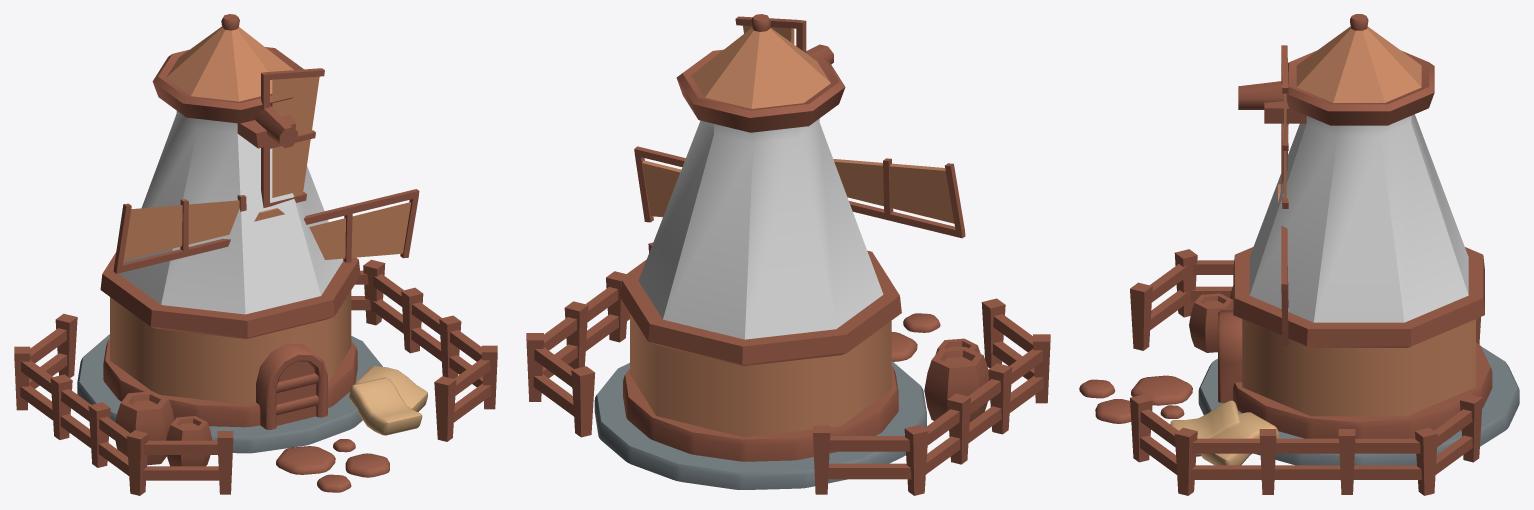
The model's file is mill.gltf.glb.
3 renders of one model, left to right at view 1: azimuth 30°, elevation 25°; view 2: azimuth 150°, elevation 25°; view 3: azimuth 270°, elevation 25°, orthographic. The views are drawn at different scales.
Parts seen in each view (by area): view 1: mill, mill_blades; view 2: mill, mill_blades; view 3: mill, mill_blades.
Part boxes in pixels (x1,y1,x2,y2): mill: [14, 14, 497, 495]; mill_blades: [113, 68, 419, 273]; mill: [526, 14, 1050, 495]; mill_blades: [634, 16, 965, 238]; mill: [1079, 14, 1519, 495]; mill_blades: [1278, 45, 1288, 346].
Bounding box in the file's own units: 55286 × 53484 × 54665.
